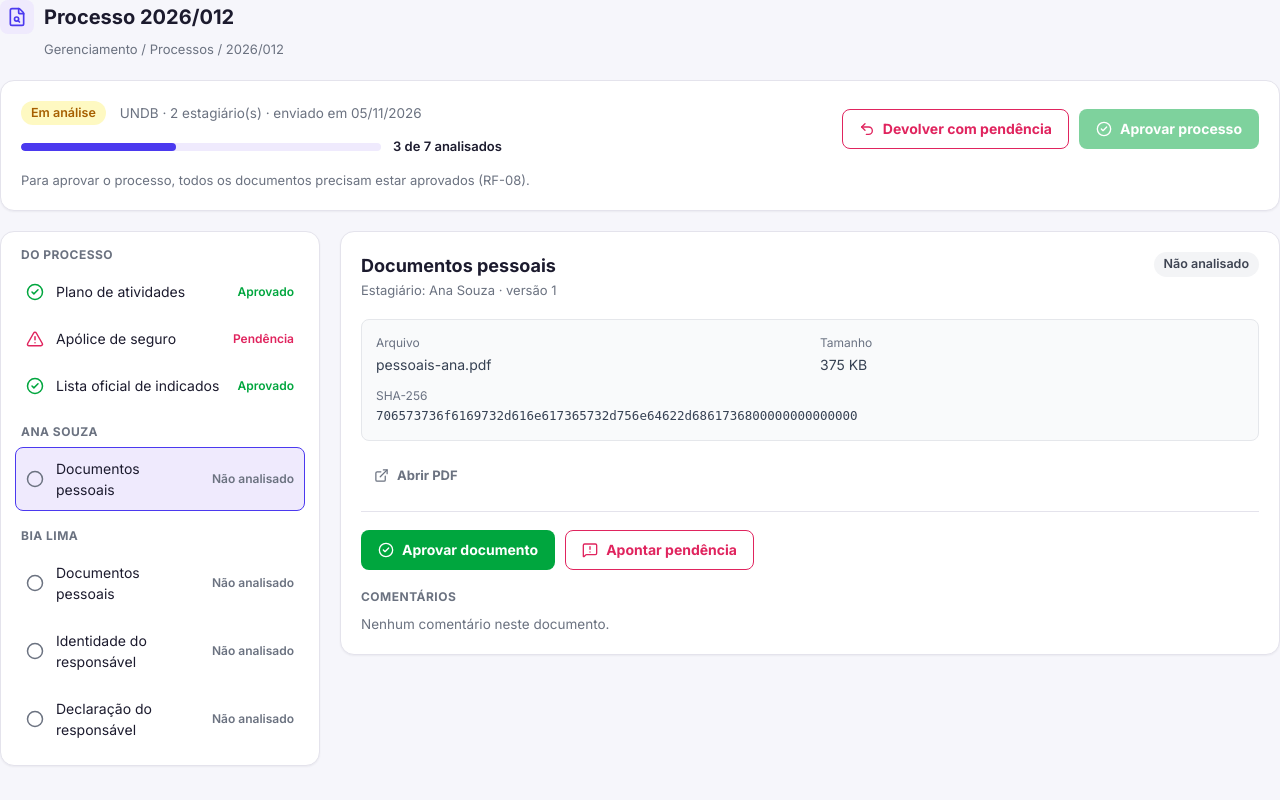
Test: AnaliseProcesso › devolver com pendência só habilita com ao menos uma pendência
Expected: the heading "Processo 2026/012" is shown, [44,2,234,32]
Expected: the button "Devolver com pendência" is enabled, [842,109,1069,149]
// Aprovar a apólice (única pendência) desfaz a pendência.
Click the button "Apólice de seguro Pendência" at (160,339), box [15,317,305,360]
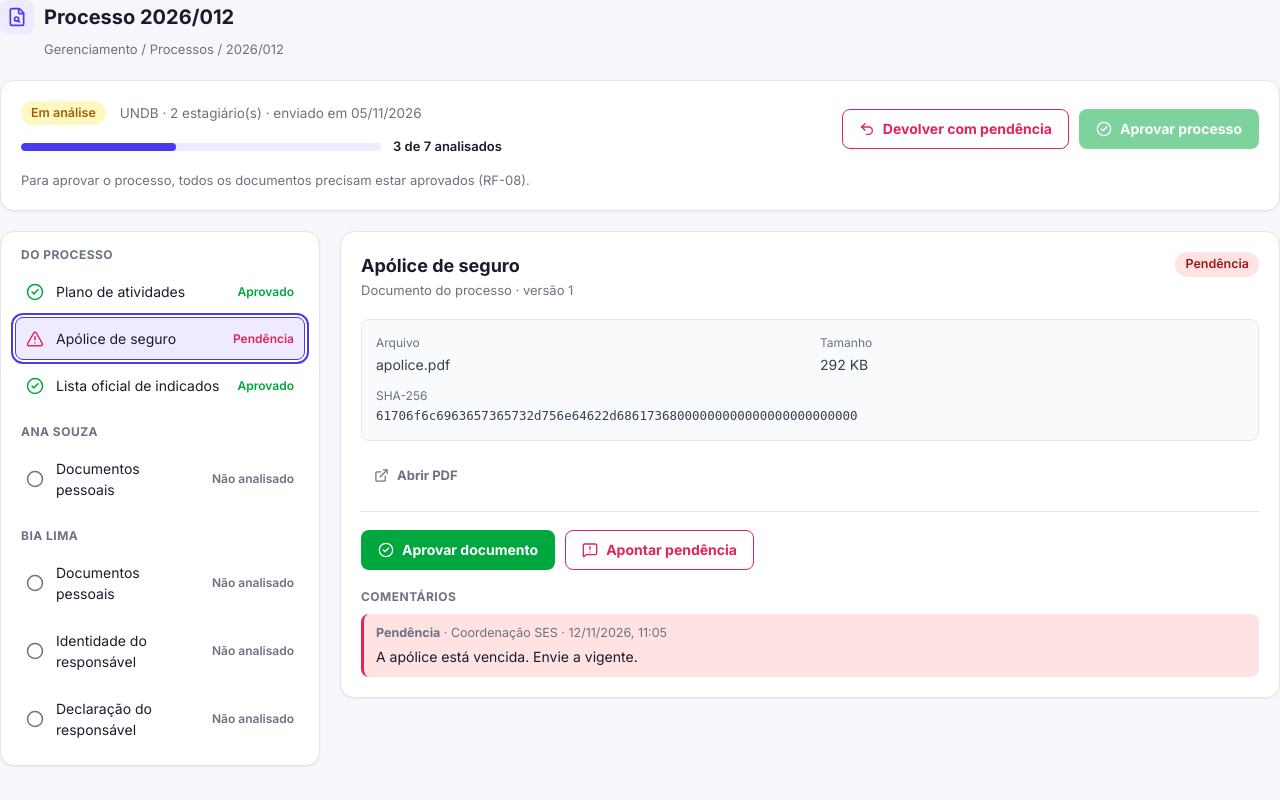
Click the button "Aprovar documento" at (458,550), box [361,530,555,570]
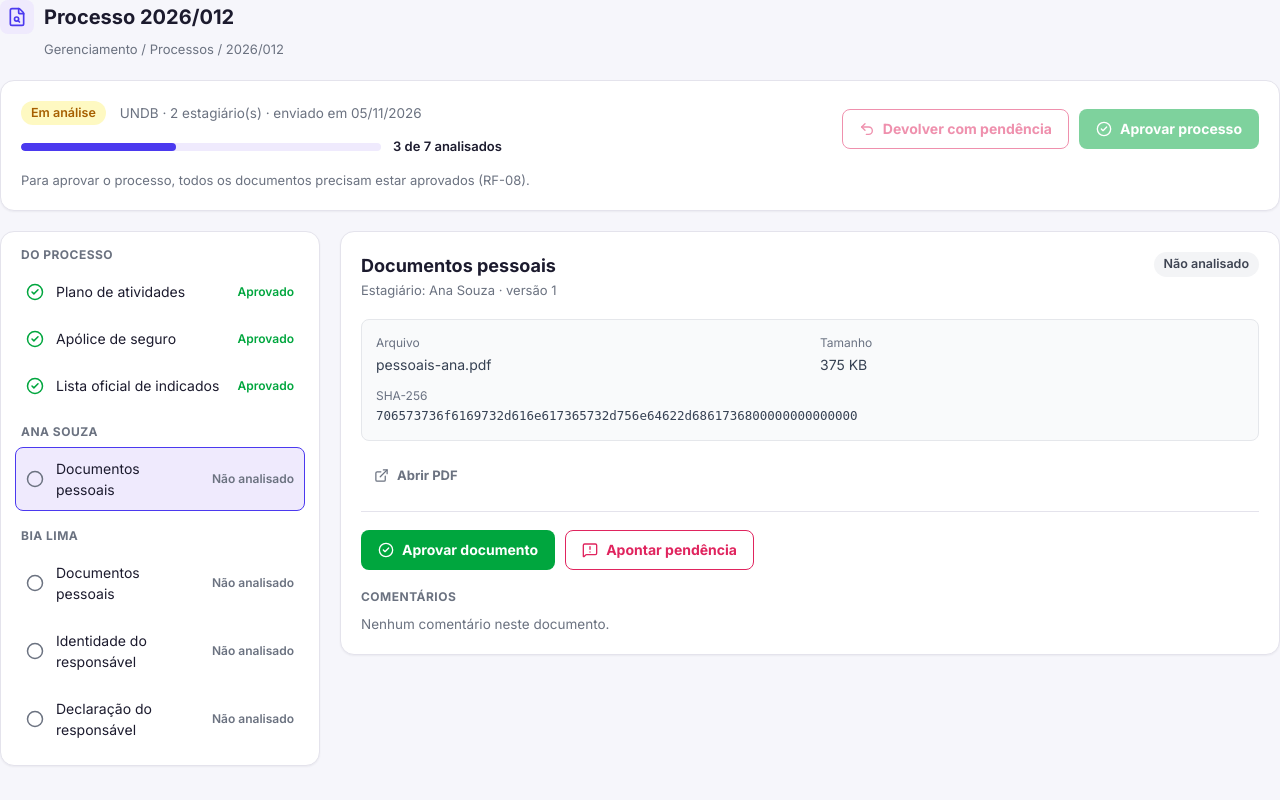
Result: the button "Devolver com pendência" is disabled at [842,109,1069,149]
